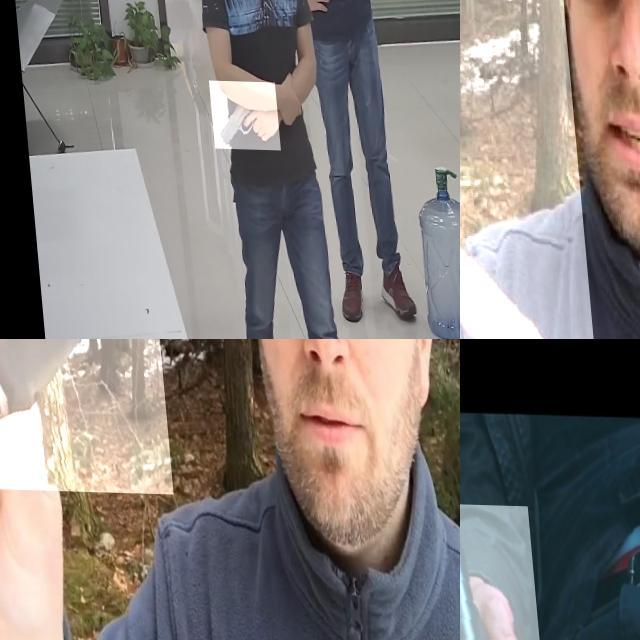-: (460, 0, 640, 339), (0, 339, 165, 525)
gun-knife-thesis - v11 Yolov5 augmented: (460, 501, 552, 640), (204, 80, 274, 148)
